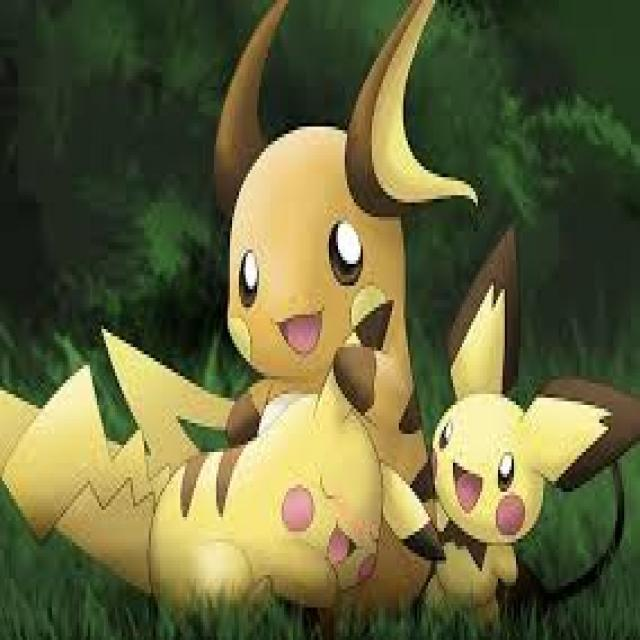pichu: (426, 224, 634, 627)
